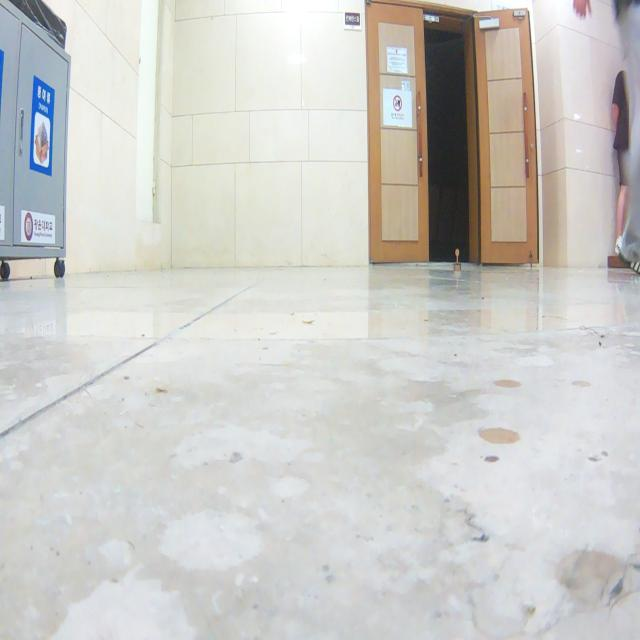target: (454, 248, 462, 272)
